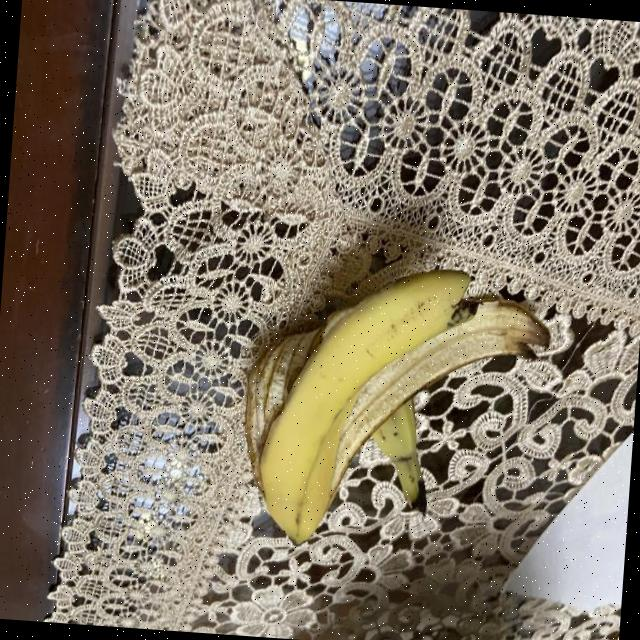banana-peel: (236, 254, 554, 562)
